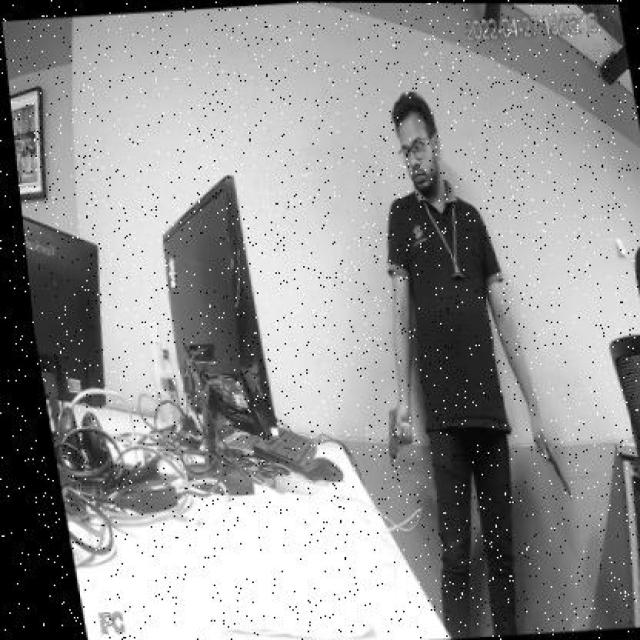weapon: (388, 409, 412, 462)
